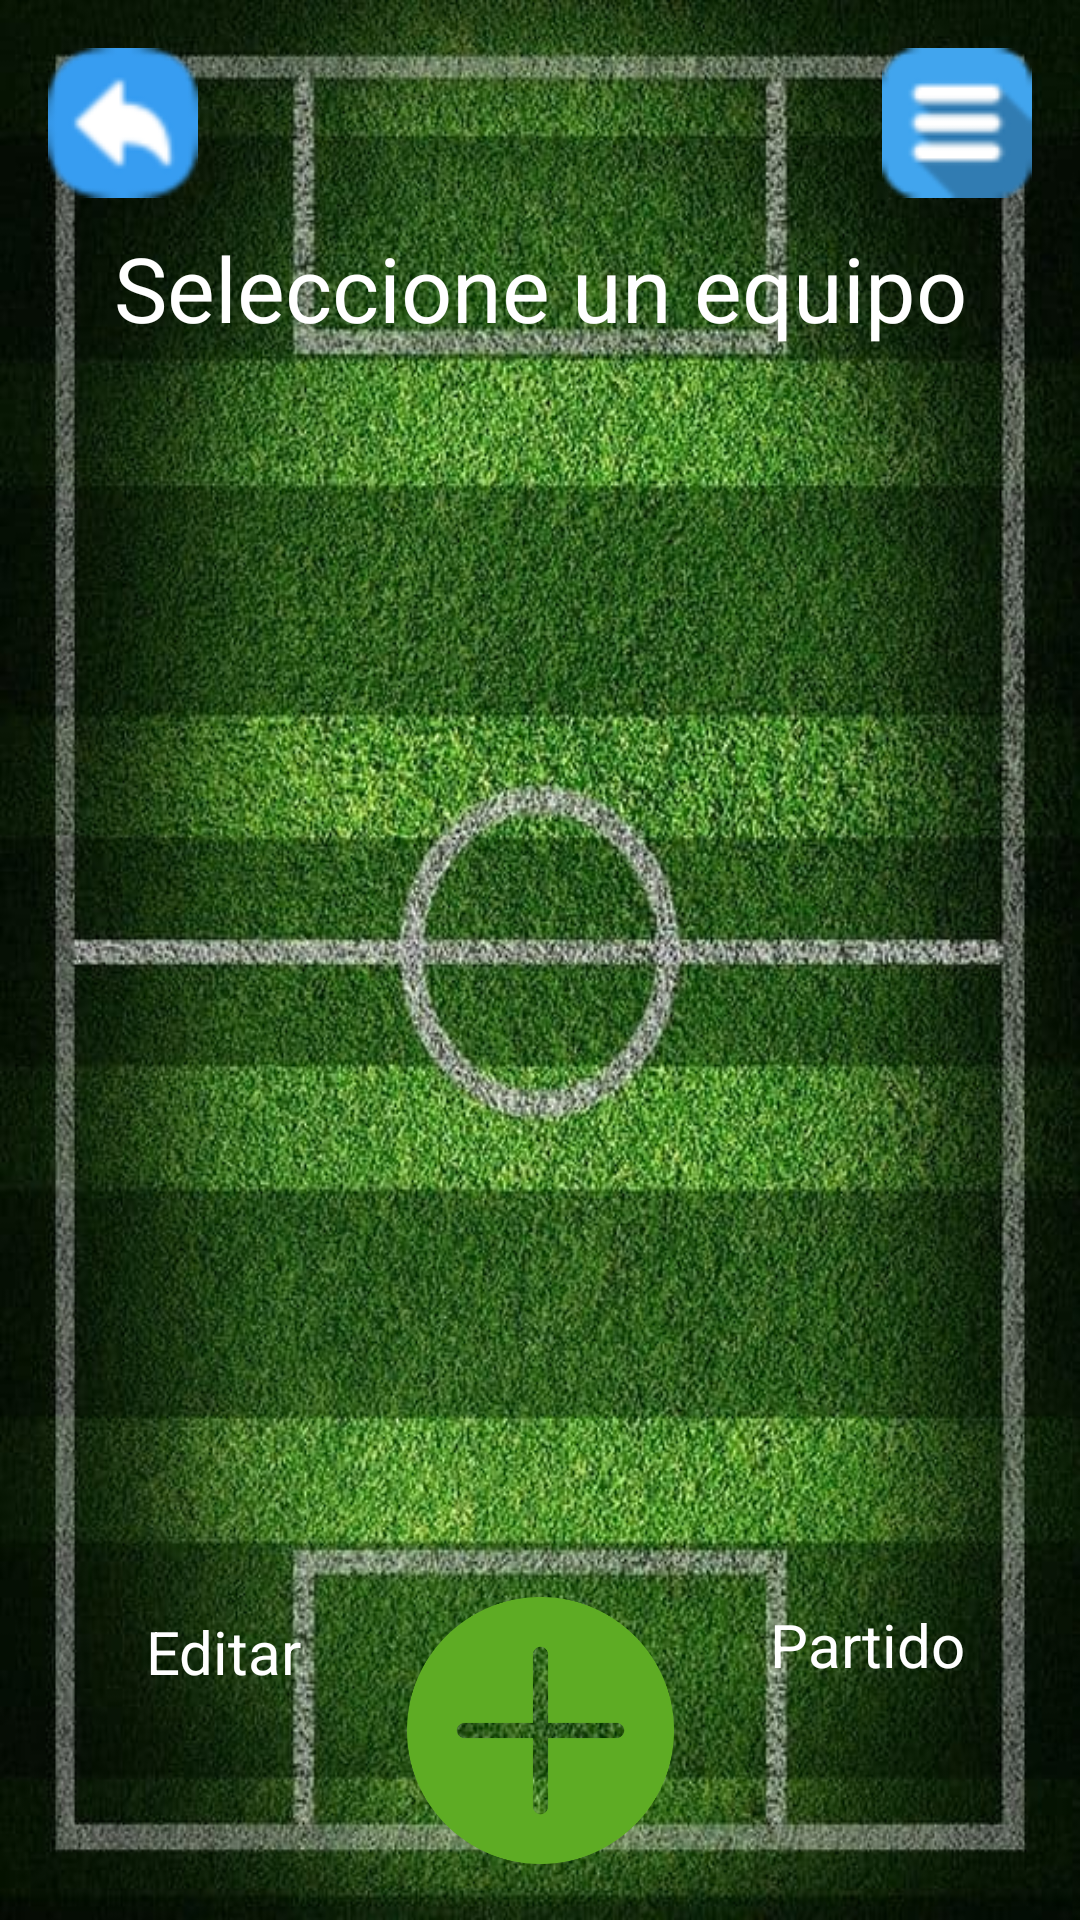

Icons on this 1080px×1920px Android screen, each with the point to tap as point (x, y):
atras: point (123, 123)
burger menu: point (957, 123)
mas: point (540, 1730)
